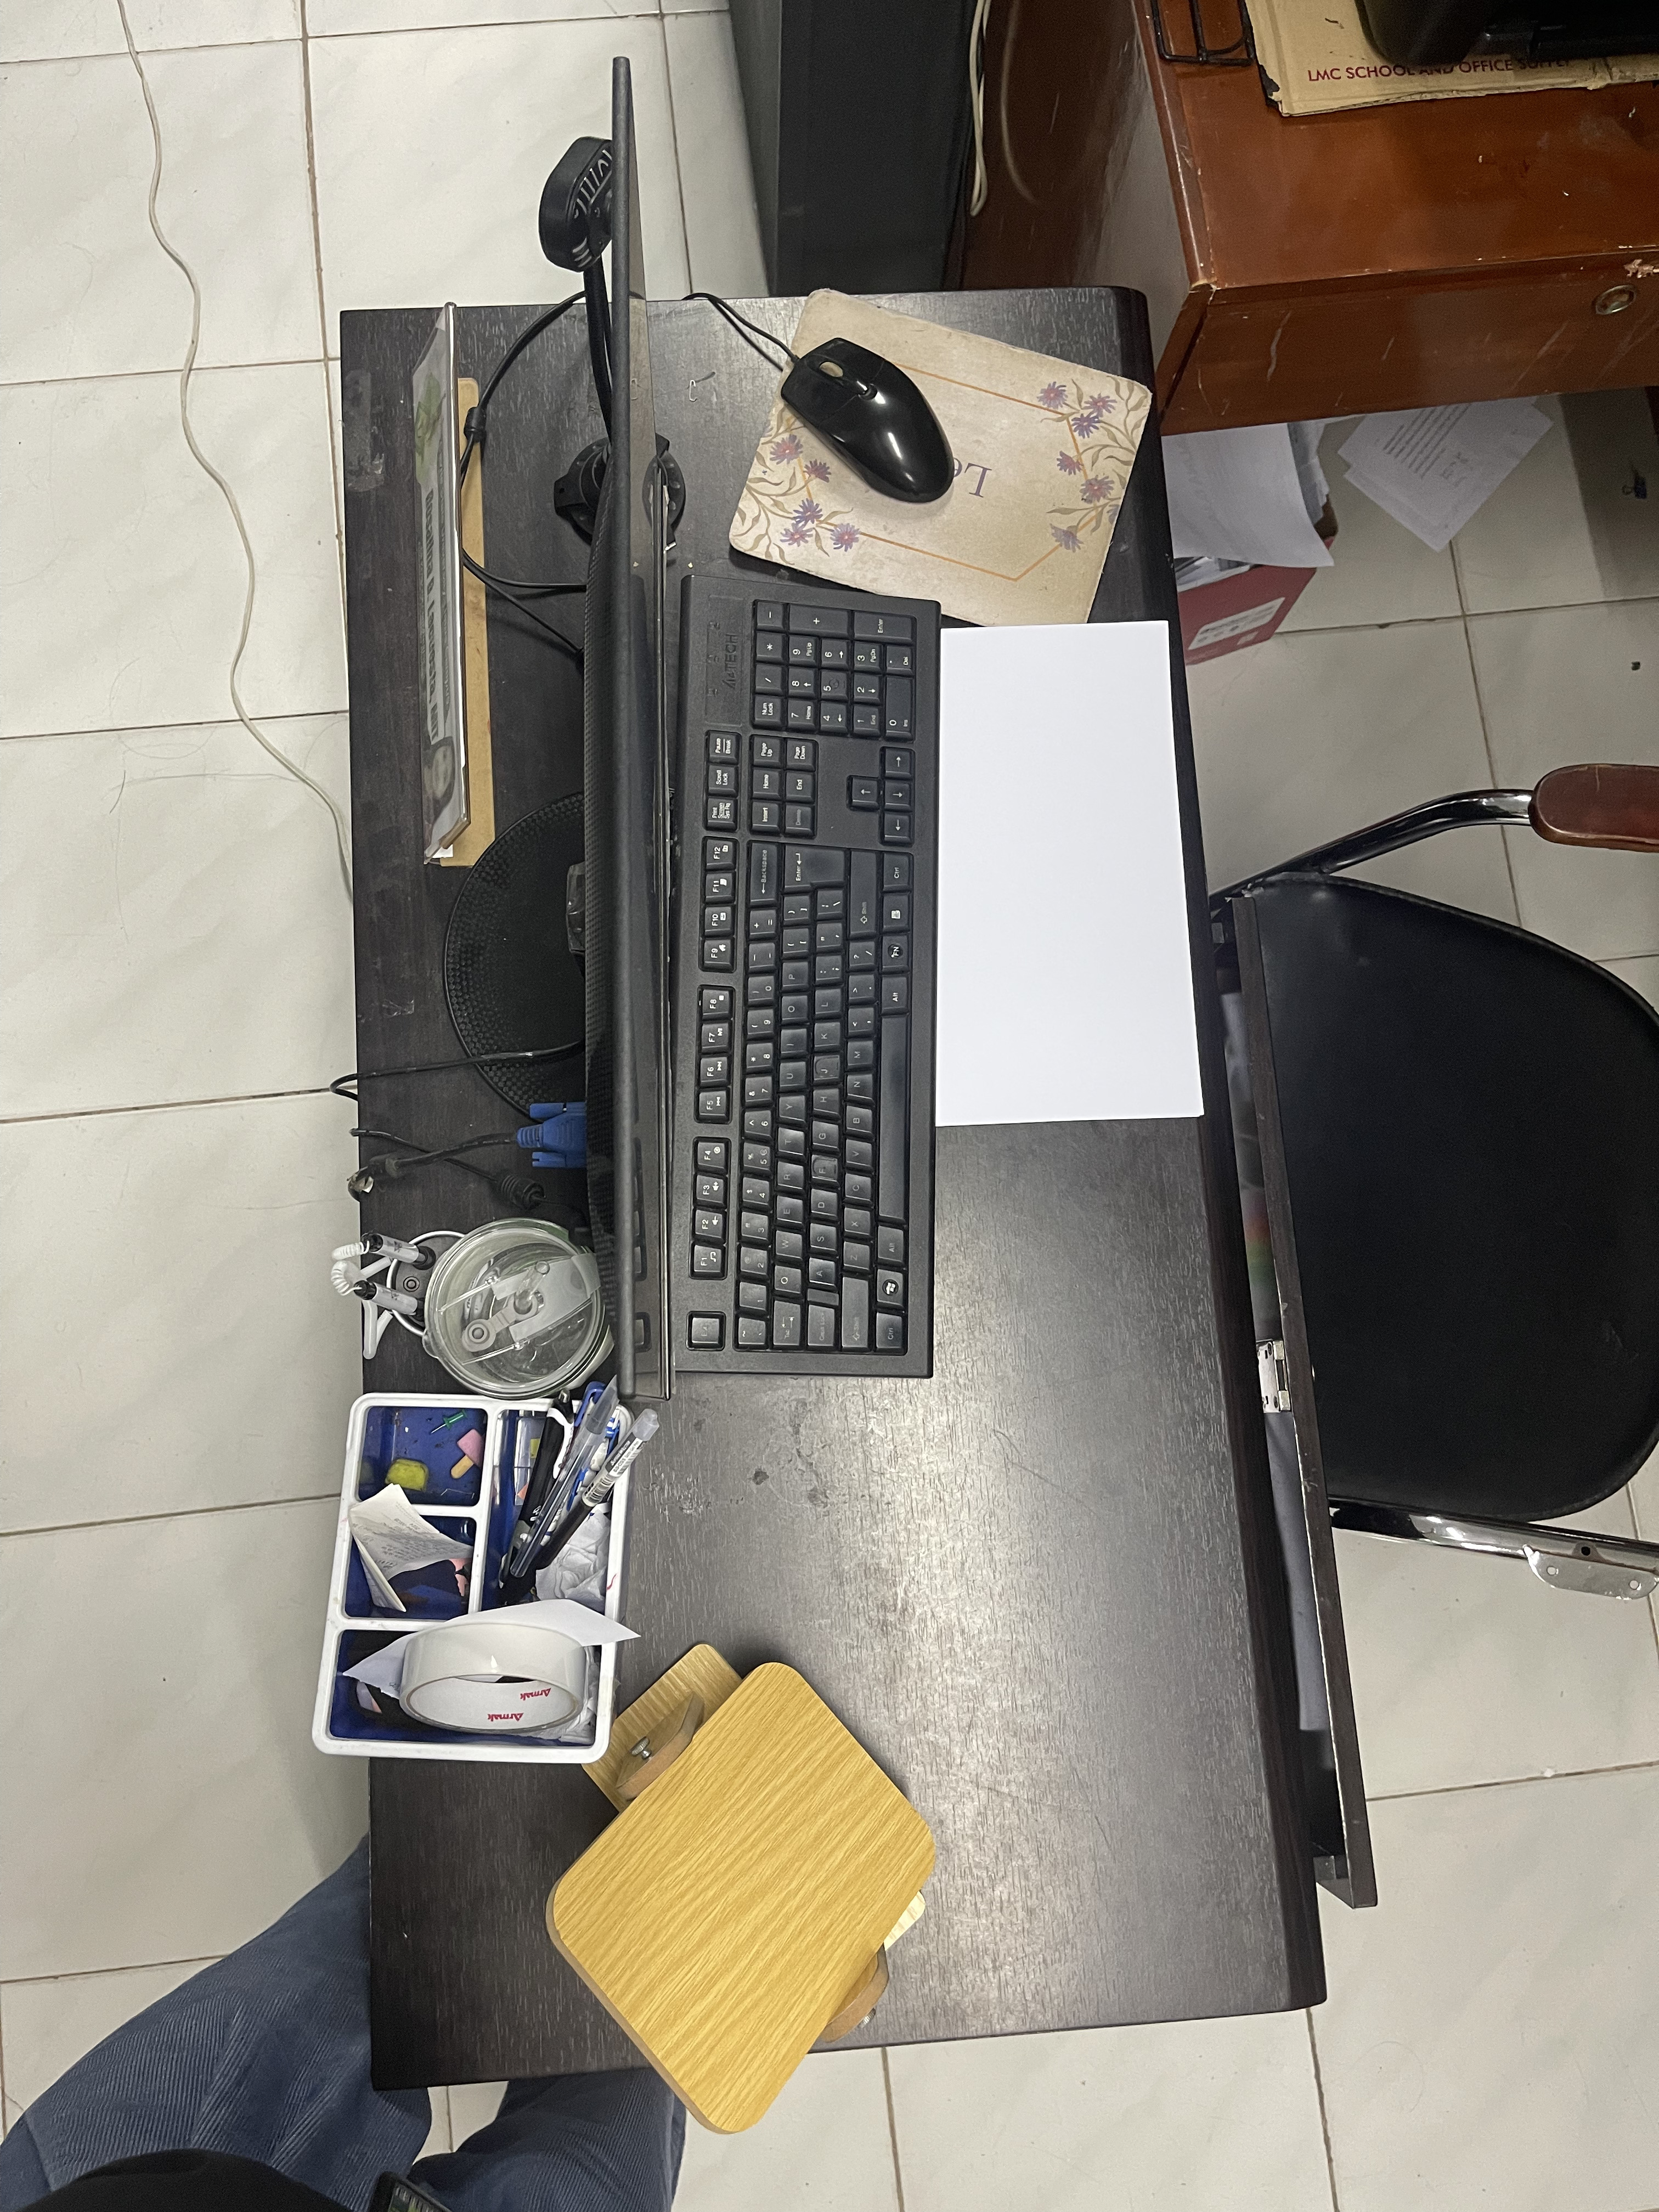table1: (328, 287, 1391, 2081)
